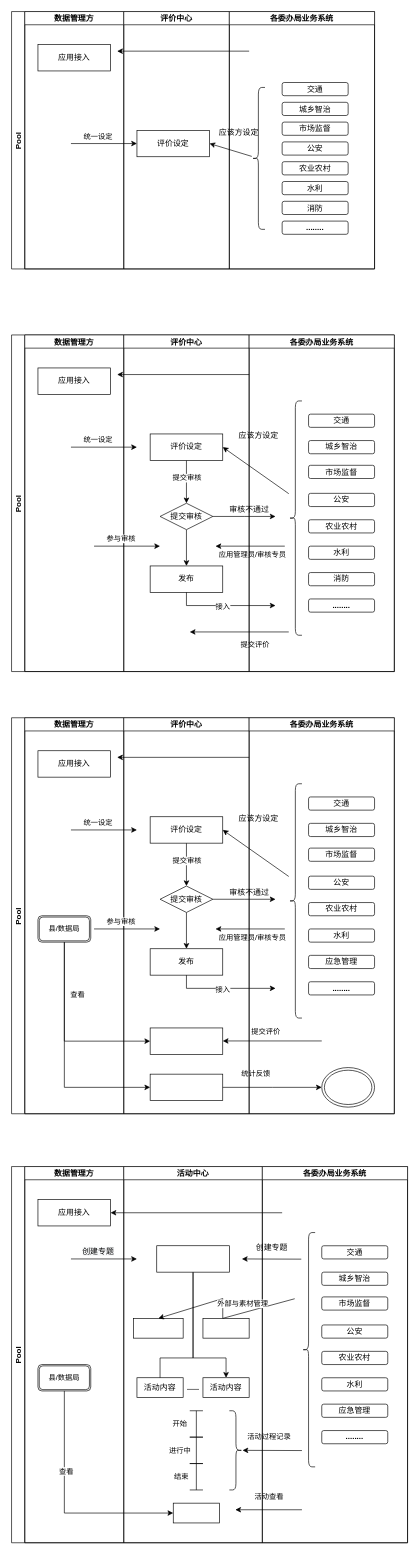
Image size: 419x1554. Some labels were removed from this diagram. Here are the shapes that lost their labels. From the top down, the centre of each, then its label:
At [186,1040]: "保存".
At [186,1087]: "统计".
At [348,1087]: "回访".
At [192,1258]: "活动专题".
At [158,1328]: "外部活动接入".
At [225,1328]: "素材管理".
At [196,1512]: "活动总结".
